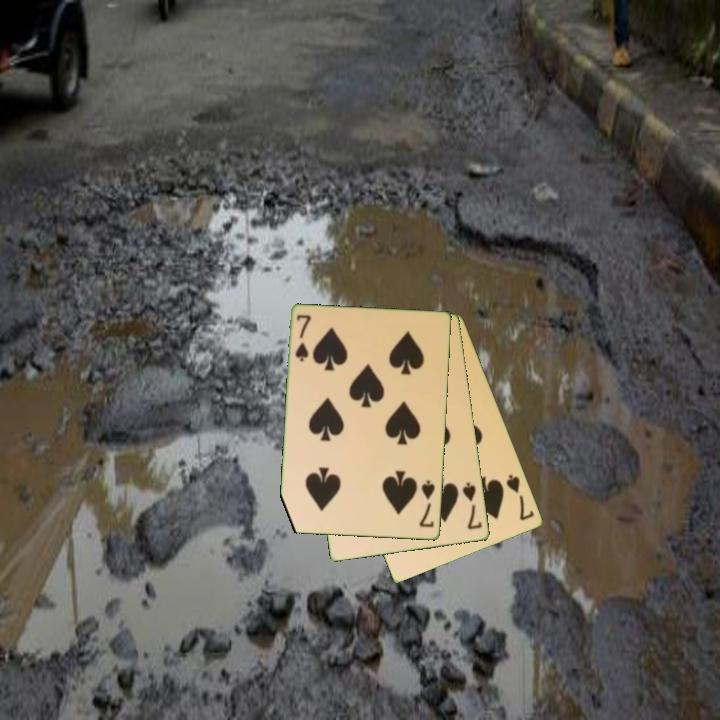7s: (503, 471, 537, 524), (459, 479, 485, 532), (416, 477, 438, 531), (292, 311, 314, 365)
